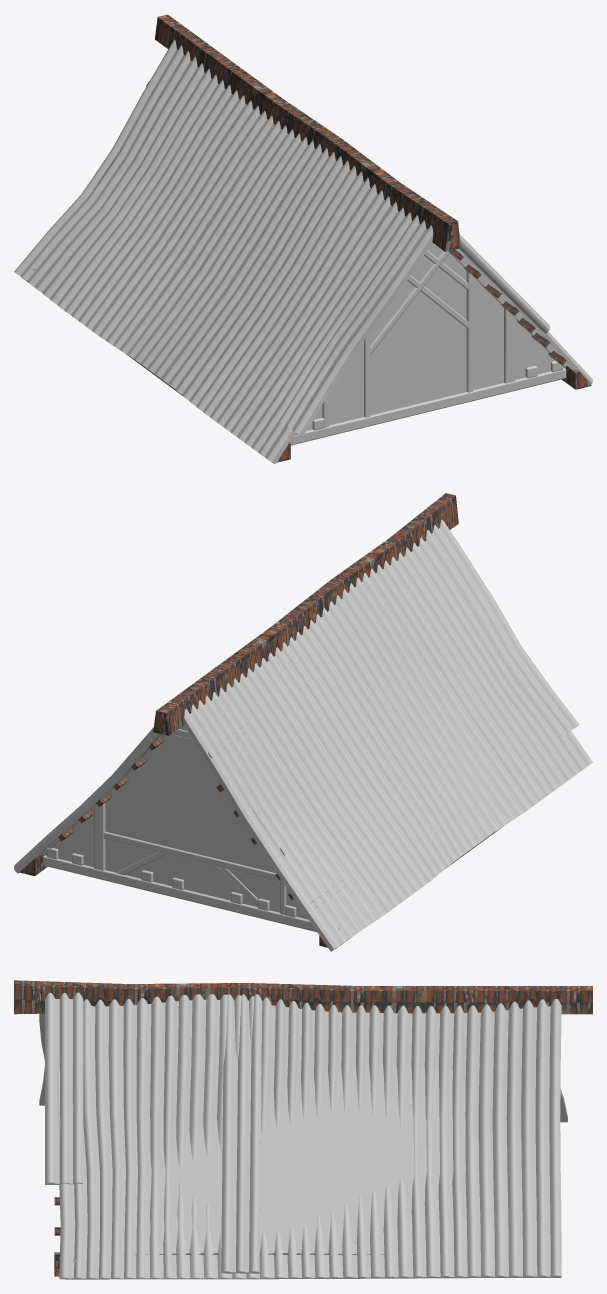
Rendered from SM_HouseRoof02.FBX.
The picture shows the model from 3 angles, top to bottom: view 1: azimuth 30°, elevation 25°; view 2: azimuth 150°, elevation 25°; view 3: azimuth 270°, elevation 25°; orthographic projection.
Parts seen in each view (by area): view 1: SM_HouseRoof02; view 2: SM_HouseRoof02; view 3: SM_HouseRoof02.
Boxes of the visible parts, x1=… form: SM_HouseRoof02: x1=14, y1=14, x2=592, y2=464; SM_HouseRoof02: x1=14, y1=493, x2=592, y2=951; SM_HouseRoof02: x1=14, y1=980, x2=592, y2=1279.
Size of the model in its own units: 514 by 783 by 328.
